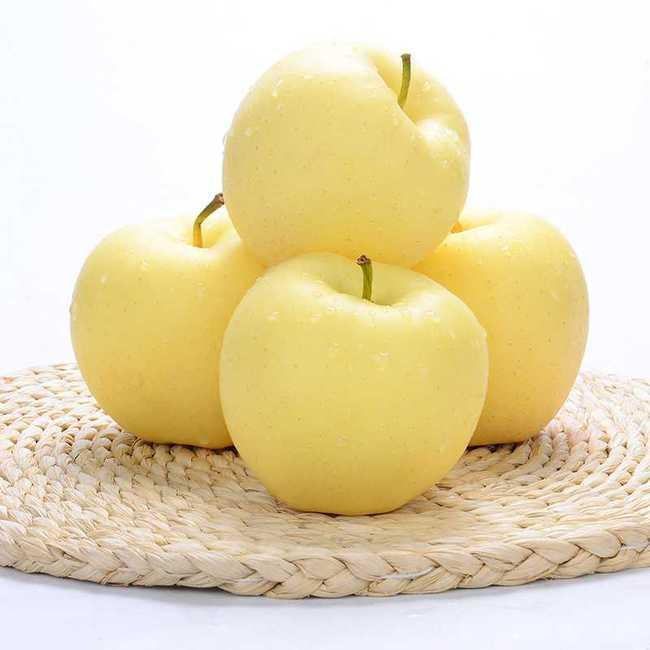apple: (221, 249, 488, 520), (218, 43, 473, 270), (69, 215, 264, 453), (408, 214, 587, 446)
